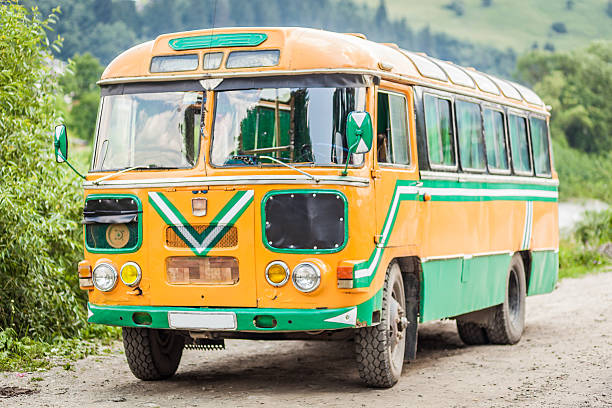bus: (43, 12, 573, 395)
